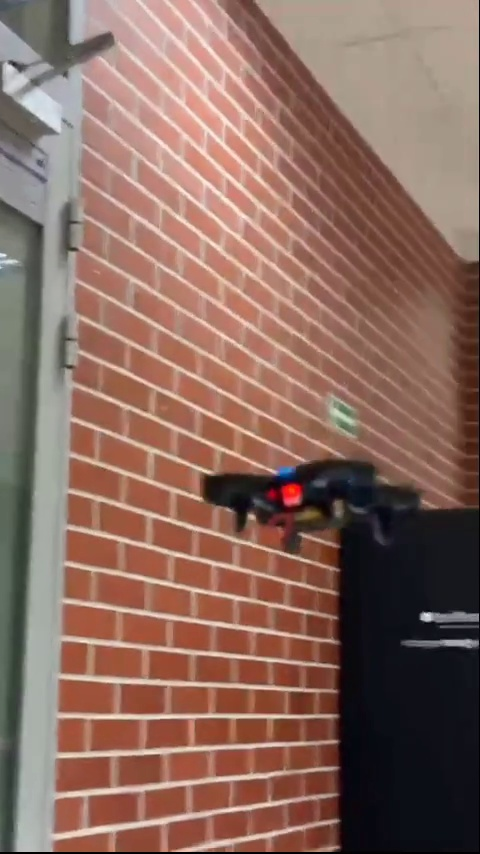drone: (204, 463, 417, 553)
